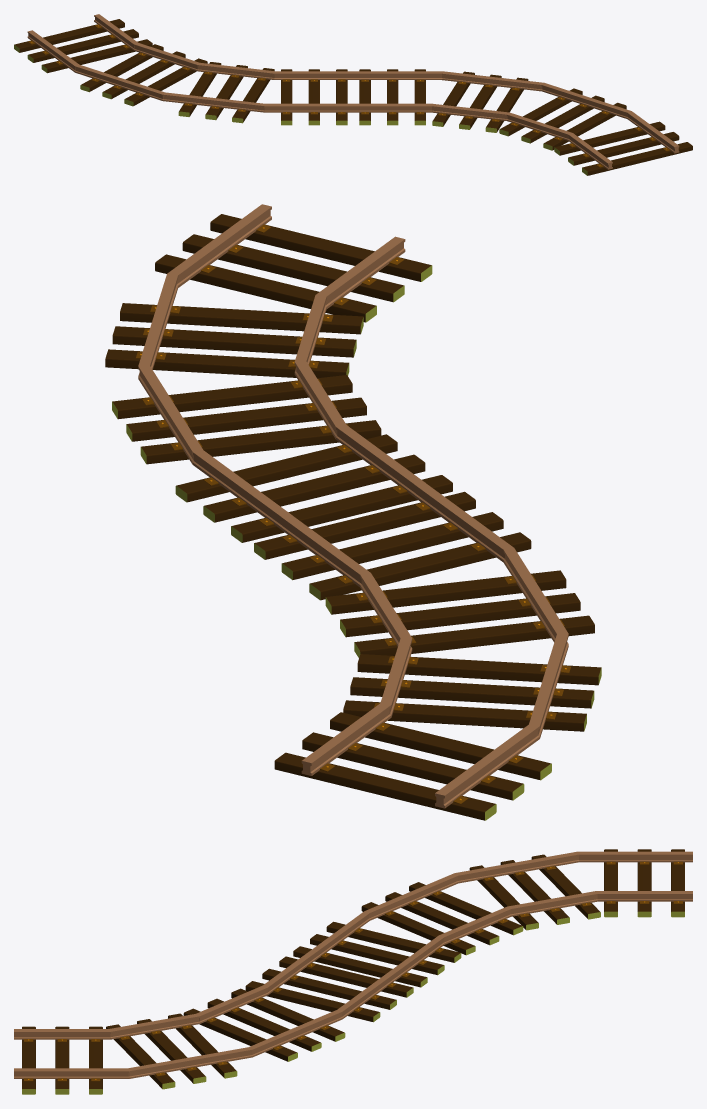
The model's file is TracksTurn.fbx.
3 views of the same model, one above another, from view 1: azimuth 30°, elevation 25°; view 2: azimuth 150°, elevation 25°; view 3: azimuth 270°, elevation 25° (orthographic). The views are drawn at different scales.
Visible parts, largest first — view 1: polySurface320; view 2: polySurface320; view 3: polySurface320.
Part boxes in pixels (<box>): polySurface320: <box>14,14,692,175</box>; polySurface320: <box>105,204,601,820</box>; polySurface320: <box>14,849,692,1094</box>.
Bounding box in the file's own units: 2.54 × 0.0661 × 3.04.
